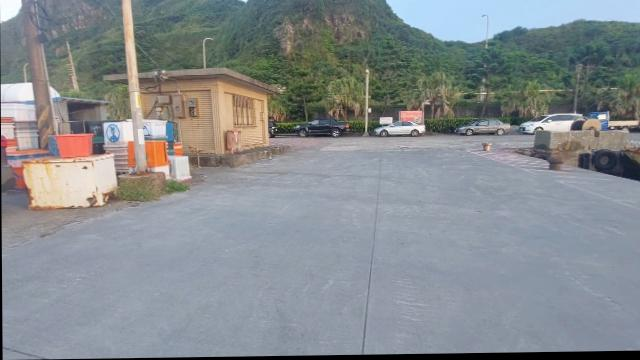pollute: (6, 150, 49, 192), (102, 121, 133, 174), (46, 135, 93, 158), (144, 141, 169, 182), (168, 155, 191, 184), (142, 120, 167, 141), (129, 142, 137, 175), (173, 143, 184, 155)
